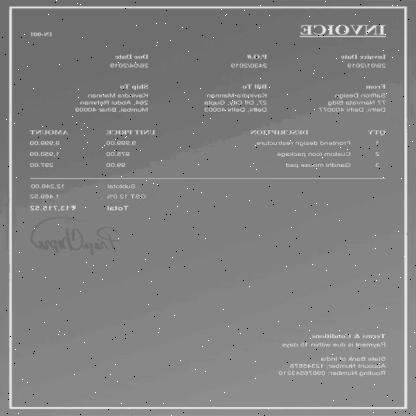Paragraph: (275, 331, 391, 379), (27, 181, 149, 214), (72, 82, 152, 114), (316, 82, 390, 114), (200, 81, 270, 114), (298, 22, 388, 37), (336, 51, 390, 69), (106, 52, 152, 70), (228, 51, 271, 70), (29, 30, 54, 38)
Table: (25, 126, 391, 174)
